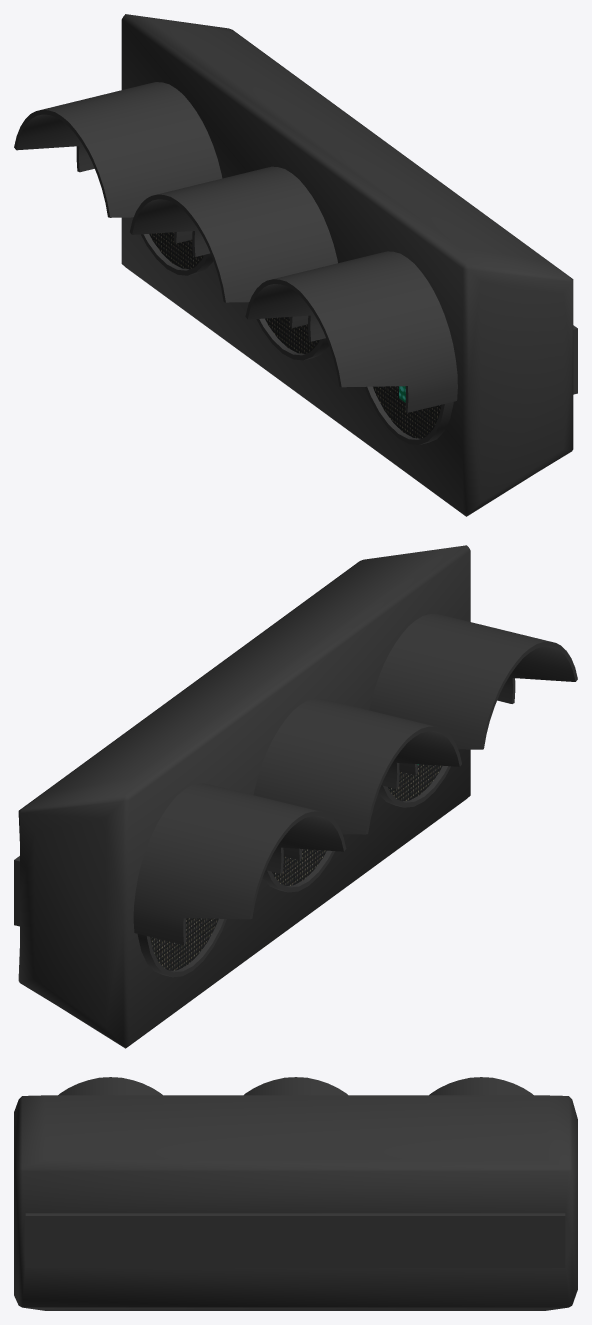
The model's file is 横向直行灯_GreenLight.fbx.
3 renders of one model, top to bottom at view 1: azimuth 30°, elevation 25°; view 2: azimuth 150°, elevation 25°; view 3: azimuth 270°, elevation 25°, orthographic. The views are drawn at different scales.
Visible parts, largest first — view 1: 横向直行灯_GreenLight; view 2: 横向直行灯_GreenLight; view 3: 横向直行灯_GreenLight.
Part boxes in pixels (bbox=[...]): 横向直行灯_GreenLight: bbox=[14, 14, 577, 516]; 横向直行灯_GreenLight: bbox=[14, 545, 577, 1048]; 横向直行灯_GreenLight: bbox=[14, 1077, 577, 1310].
Size of the model in its own units: 0.6 by 0.65 by 1.58.
Materials: 3 (2 with a texture image).
